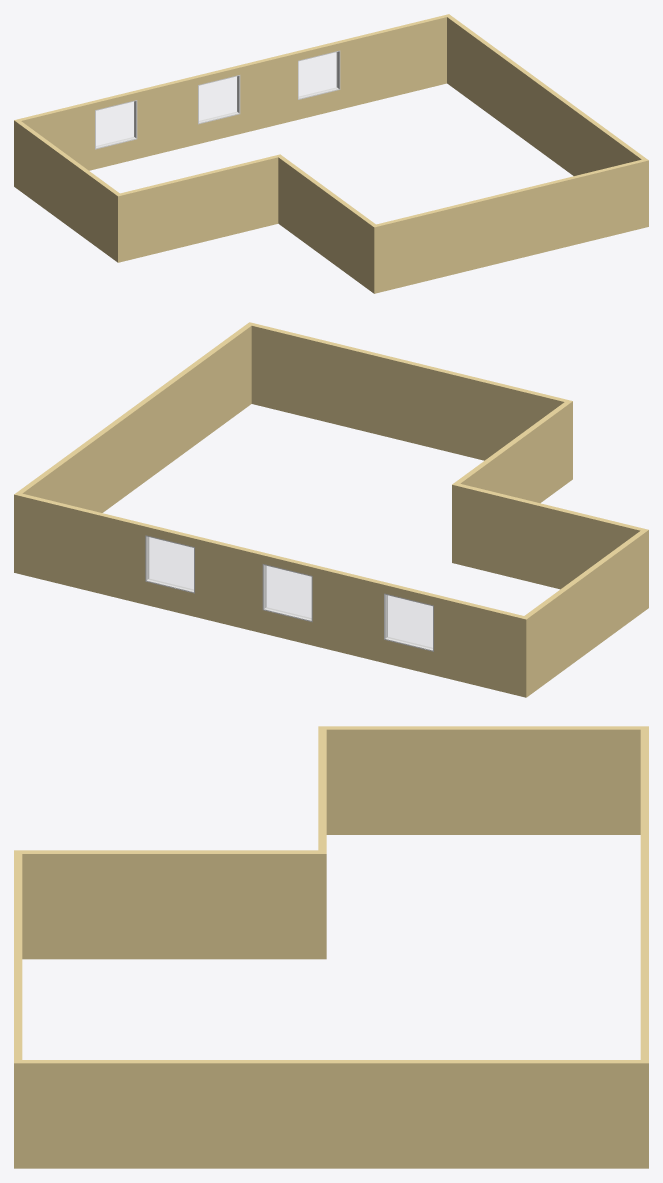
The model's file is walls.FBX.
The picture shows the model from 3 angles, top to bottom: view 1: azimuth 30°, elevation 25°; view 2: azimuth 150°, elevation 25°; view 3: azimuth 270°, elevation 25°; orthographic projection. The views are drawn at different scales.
Parts seen in each view (by area): view 1: Wall001, FixedWindow001, FixedWindow002, FixedWindow003; view 2: Wall001, FixedWindow002, FixedWindow001, FixedWindow003; view 3: Wall001.
Boxes of the visible parts, x1,y1,x2,y2 form: Wall001: (14,14,648,293); FixedWindow001: (298,50,340,99); FixedWindow002: (198,75,240,124); FixedWindow003: (95,100,137,149); Wall001: (14,322,648,697); FixedWindow002: (262,564,312,622); FixedWindow001: (145,535,194,593); FixedWindow003: (384,593,433,651); Wall001: (14,726,648,1168).
Bounding box in the file's own units: 1458 × 1160 × 213.
